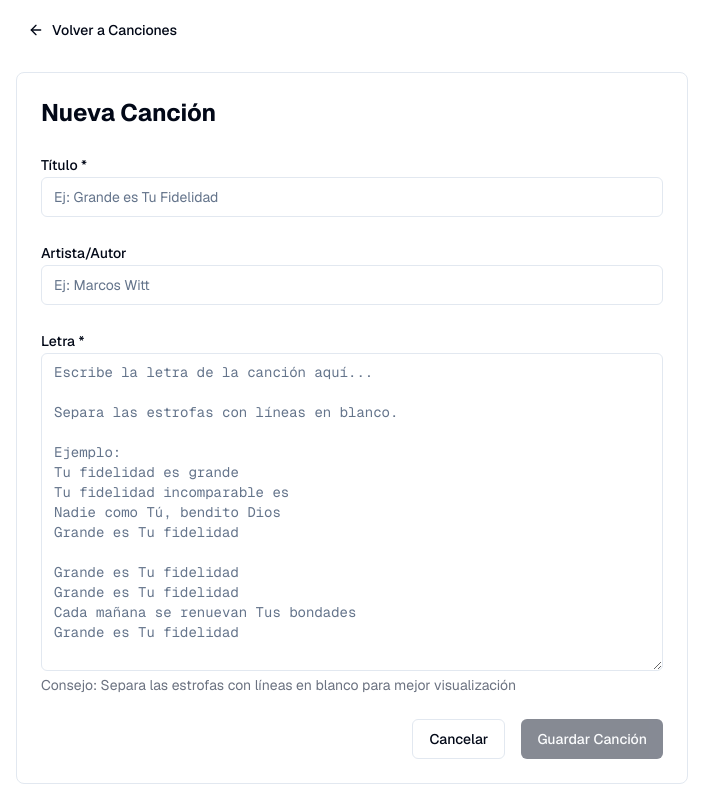
NewSongPage › requires title and lyrics fields
Expected: the button "Guardar Canción" is disabled, [521,719,663,759]
Fill in title
Type "Test Song" into the field labelled "Título *".
click(352, 197); type("Test Song")  # box [41,177,663,217]
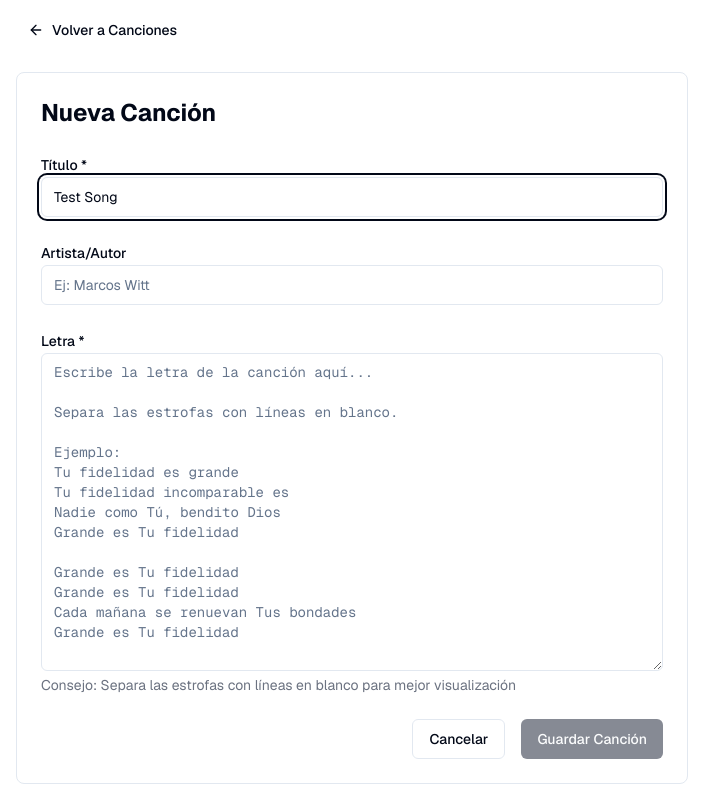
Expected: the button "Guardar Canción" is disabled, [521,719,663,759]
Fill in lyrics
Type "Test lyrics" into the text box labelled "Letra *".
click(352, 512); type("Test lyrics")  # box [41,353,663,671]
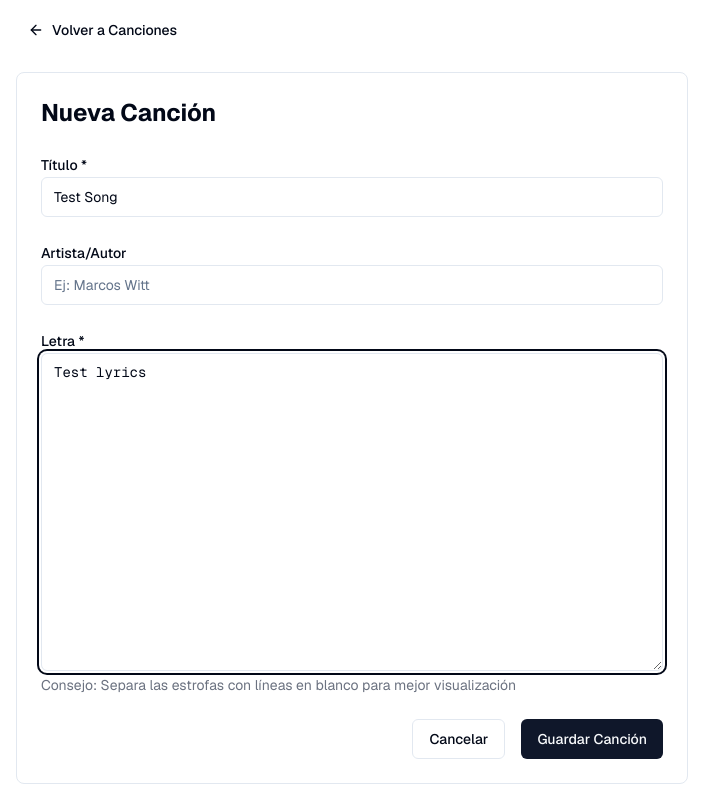
Now the button "Guardar Canción" is enabled, box [521,719,663,759]
